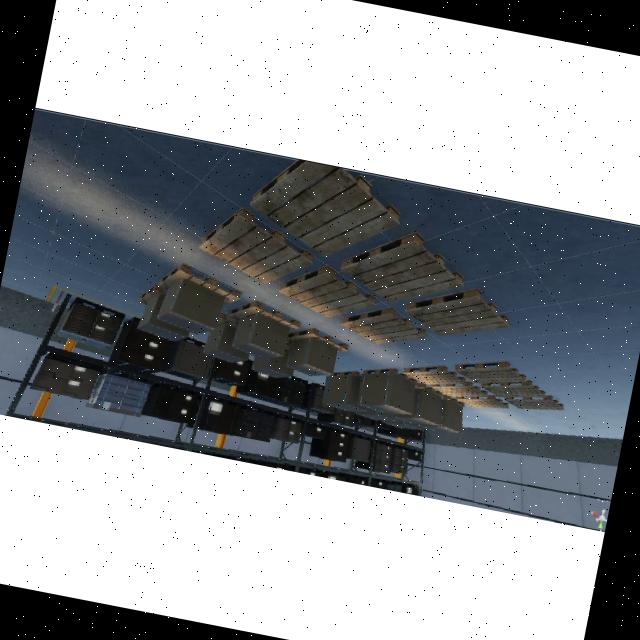wooden_pallet: (252, 159, 401, 257), (341, 233, 465, 303), (201, 208, 313, 285), (279, 267, 377, 318), (406, 289, 511, 336), (157, 264, 242, 307), (341, 307, 427, 345), (227, 301, 301, 332), (455, 363, 527, 384), (404, 366, 467, 385), (482, 381, 546, 398), (505, 396, 564, 410), (362, 369, 417, 384)
